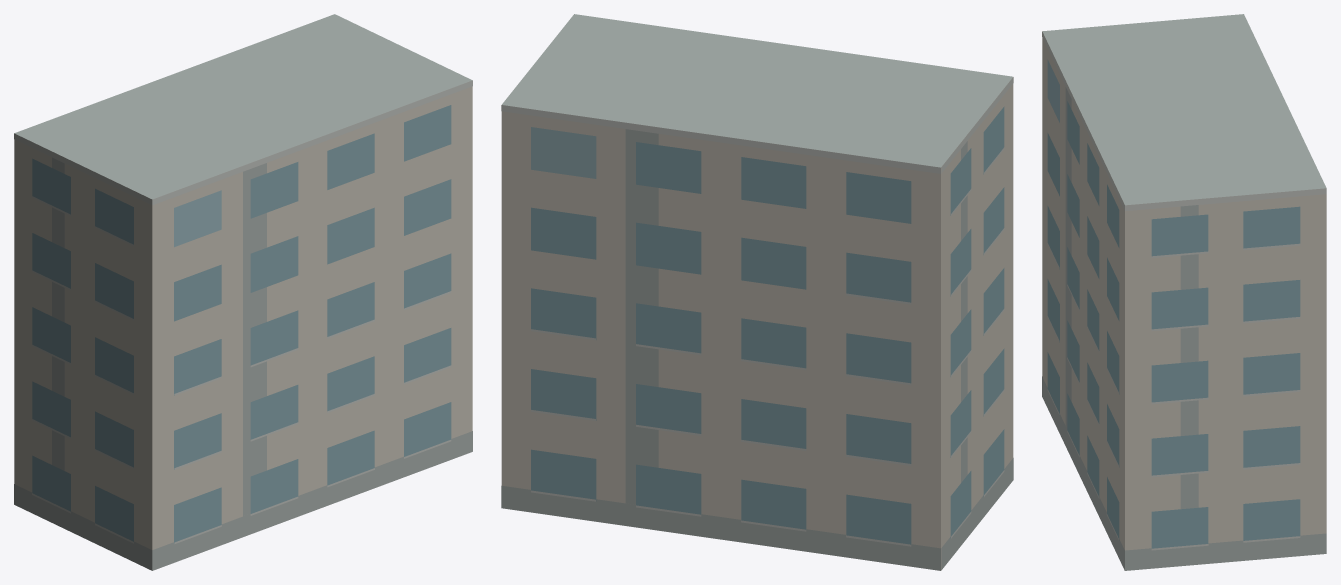
Rendered from residential-dc33ba17-b15c-427c-9b19-0e03f7b5339c.glb.
3 views of the same model, side by side, from view 1: azimuth 30°, elevation 25°; view 2: azimuth 150°, elevation 25°; view 3: azimuth 270°, elevation 25° (orthographic). The views are drawn at different scales.
Visible parts, largest first — view 1: residential-dc33ba17-b15c-427c-9b19-0e03f7b5339c.tmp; view 2: residential-dc33ba17-b15c-427c-9b19-0e03f7b5339c.tmp; view 3: residential-dc33ba17-b15c-427c-9b19-0e03f7b5339c.tmp.
Boxes of the visible parts, x1,y1,x2,y2 form: residential-dc33ba17-b15c-427c-9b19-0e03f7b5339c.tmp: [14, 14, 472, 570]; residential-dc33ba17-b15c-427c-9b19-0e03f7b5339c.tmp: [501, 14, 1013, 570]; residential-dc33ba17-b15c-427c-9b19-0e03f7b5339c.tmp: [1042, 14, 1326, 570].
Bounding box in the file's own units: 17.13 × 15.25 × 10.77.
